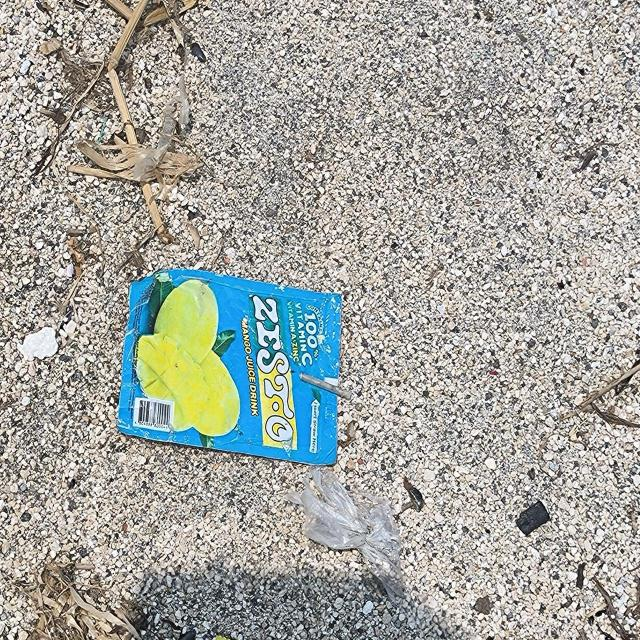plastic_waste: (115, 267, 343, 468)
